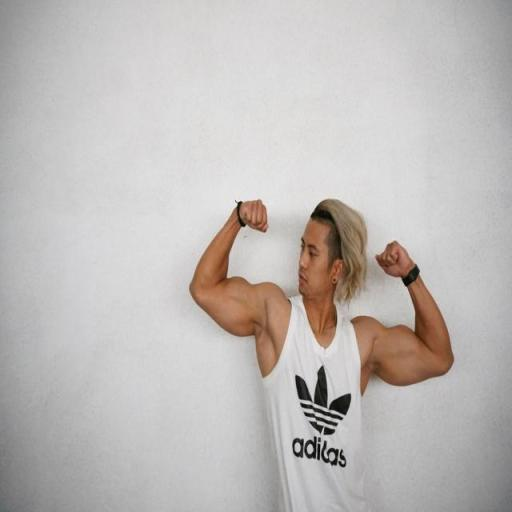Adidas: (290, 364, 352, 467)
